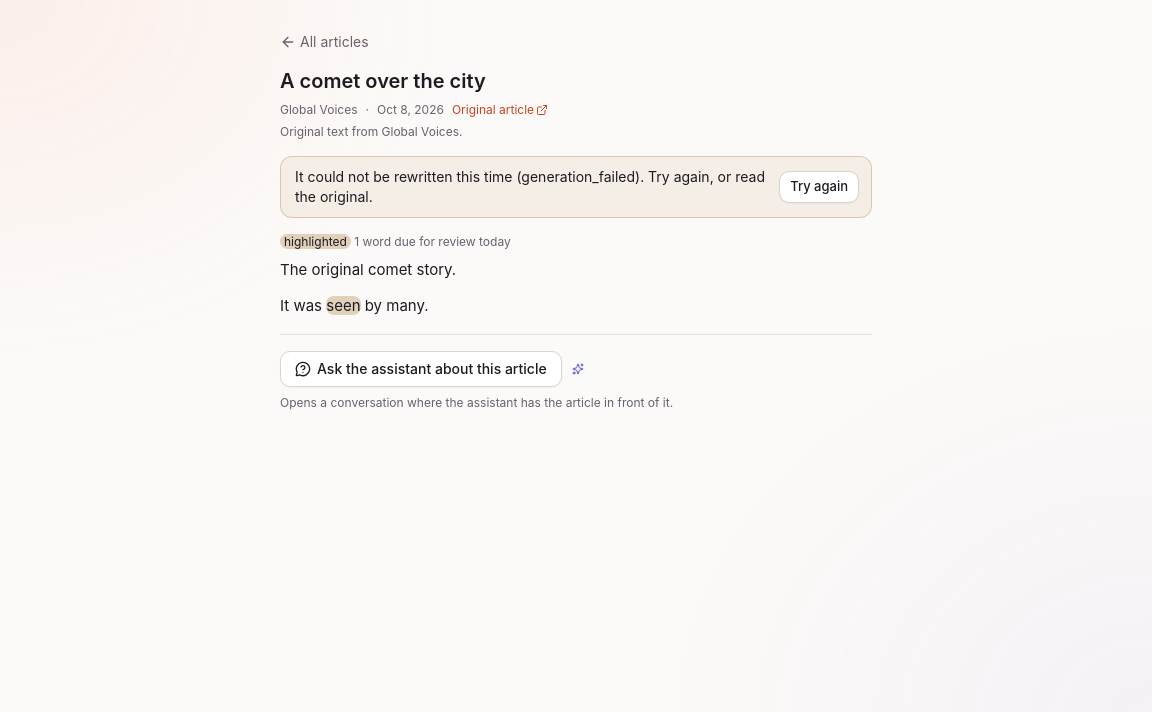
Test case: ReadingArticle › offers a retry when the rewrite failed
Expected: the message with test id "reading-failed" shows "generation_failed", [295, 168, 765, 204]
Click the button "Try again".
click(819, 186)  # box [779, 170, 859, 202]
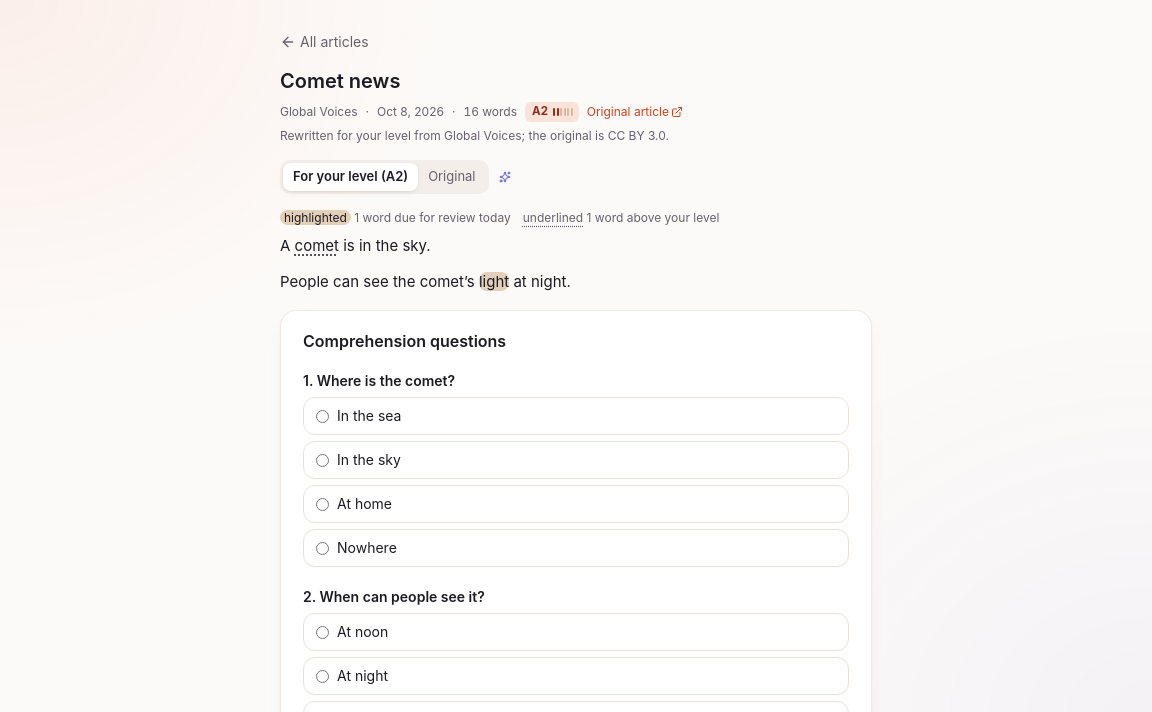
Expected: the heading "Comet news" is shown, [280, 69, 400, 93]
